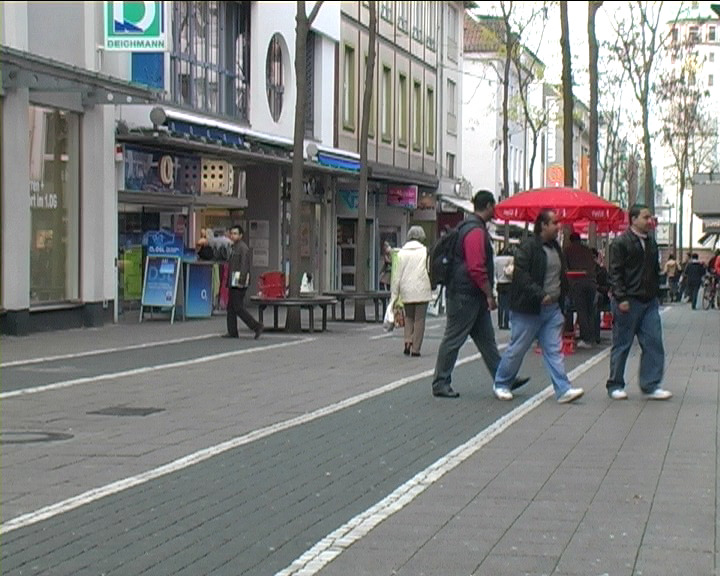deflection: (461, 189, 507, 263)
